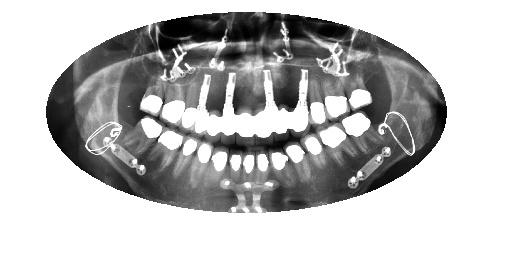i10healthy: (229, 148, 242, 191)
i11healthy: (212, 146, 229, 189)
i12healthy: (192, 142, 213, 188)
i13healthy: (172, 138, 199, 178)
i14healthy: (150, 129, 184, 163)
i15healthy: (125, 120, 164, 151)
i16loss: (121, 106, 139, 136)
i1loss: (374, 97, 398, 122)
i2loss: (369, 109, 391, 136)
i3healthy: (342, 111, 385, 152)
i4healthy: (319, 123, 357, 161)
i5healthy: (302, 136, 329, 171)
i6healthy: (287, 143, 313, 184)
i7healthy: (271, 150, 292, 187)
i8healthy: (256, 150, 270, 190)
i9healthy: (243, 150, 256, 188)
u10loss: (223, 71, 238, 139)
u11loss: (208, 73, 224, 138)
u12loss: (196, 71, 212, 135)
u13healthy: (182, 75, 198, 130)
u14healthy: (160, 77, 187, 123)
u15healthy: (140, 73, 167, 115)
u16loss: (127, 67, 144, 104)
u1loss: (361, 62, 385, 92)
u2healthy: (342, 72, 373, 108)
u3healthy: (323, 74, 350, 117)
u4healthy: (310, 75, 326, 127)
u5loss: (295, 69, 308, 137)
u6loss: (278, 70, 295, 138)
u7loss: (262, 69, 281, 141)
u8loss: (253, 73, 271, 142)
u9loss: (238, 73, 253, 143)
